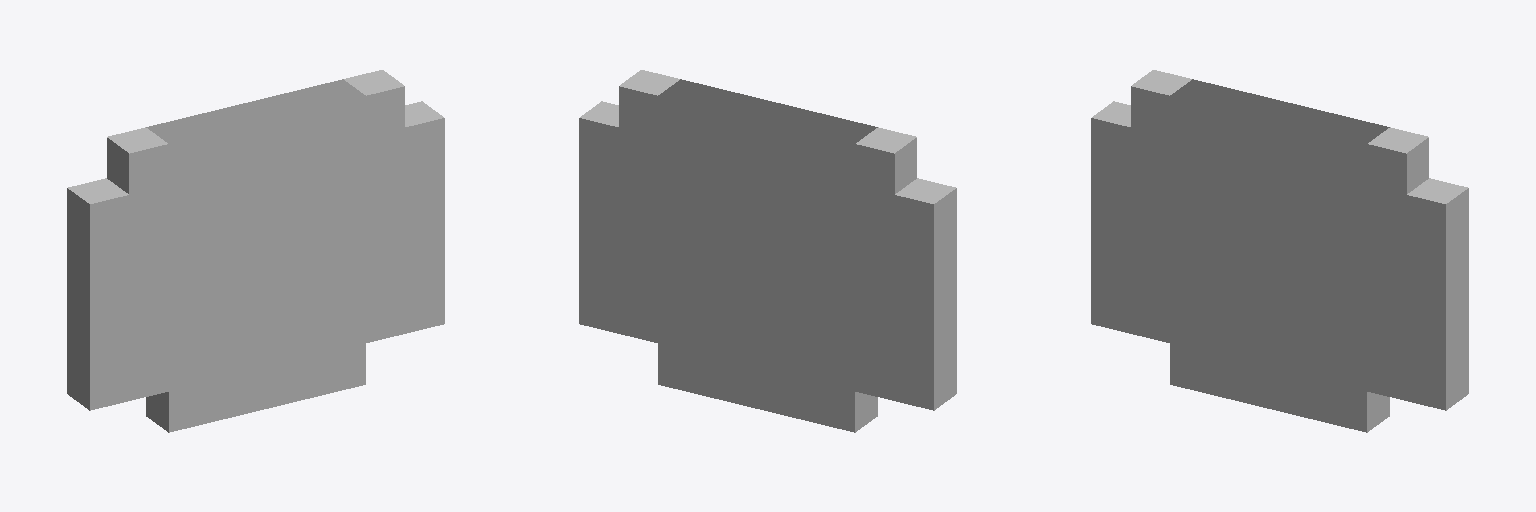
The model's file is potion_overlay.obj.
The picture shows the model from 3 angles: view 1: azimuth 30°, elevation 25°; view 2: azimuth 150°, elevation 25°; view 3: azimuth 330°, elevation 25°; orthographic projection.
Visible parts, largest first — view 1: Cube.008; view 2: Cube.008; view 3: Cube.008.
Part boxes in pixels (x1,y1,x2,y2): Cube.008: (67, 70, 444, 432); Cube.008: (579, 70, 956, 432); Cube.008: (1091, 70, 1468, 432).
Bounding box in the file's own units: 0.5625 × 0.4375 × 0.0625.